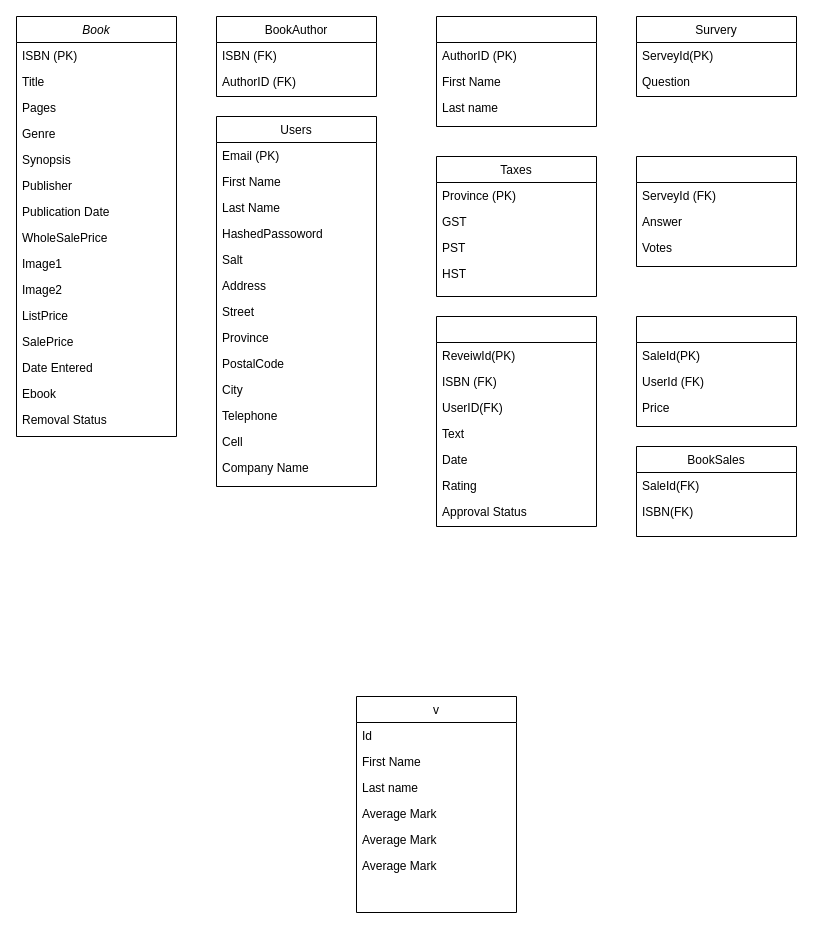
The diagram is 813 pixels wide and 929 high, and some of its shapes have lost their labels. The shapes that lost their labels are listed below. From the top down, each one's box as (x1, y1, x2, y2) in pixels, then its label:
(436, 16, 596, 126): Authors
(636, 156, 796, 266): Answers
(636, 316, 796, 426): Sales
(436, 316, 596, 526): Reviews
